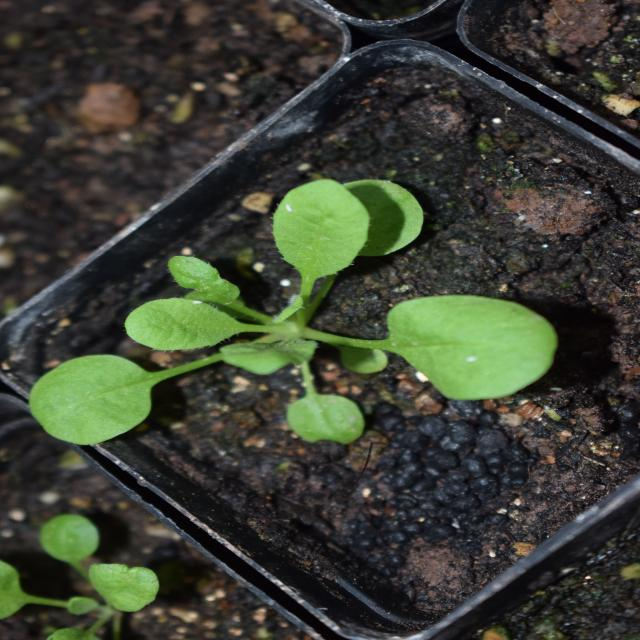Shepherd_Purse: (188, 16, 469, 566)
